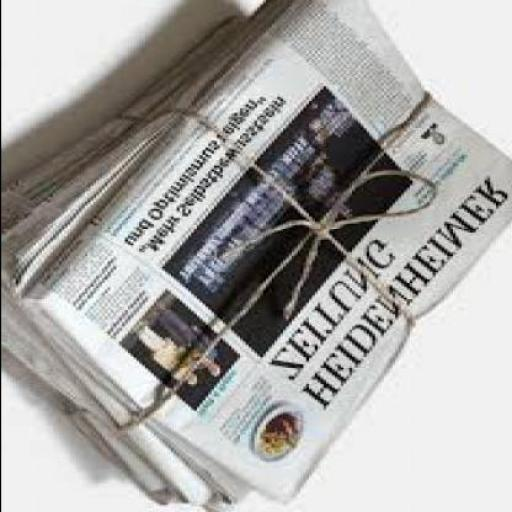paper: (26, 2, 511, 504), (9, 2, 256, 511), (3, 2, 173, 506)
